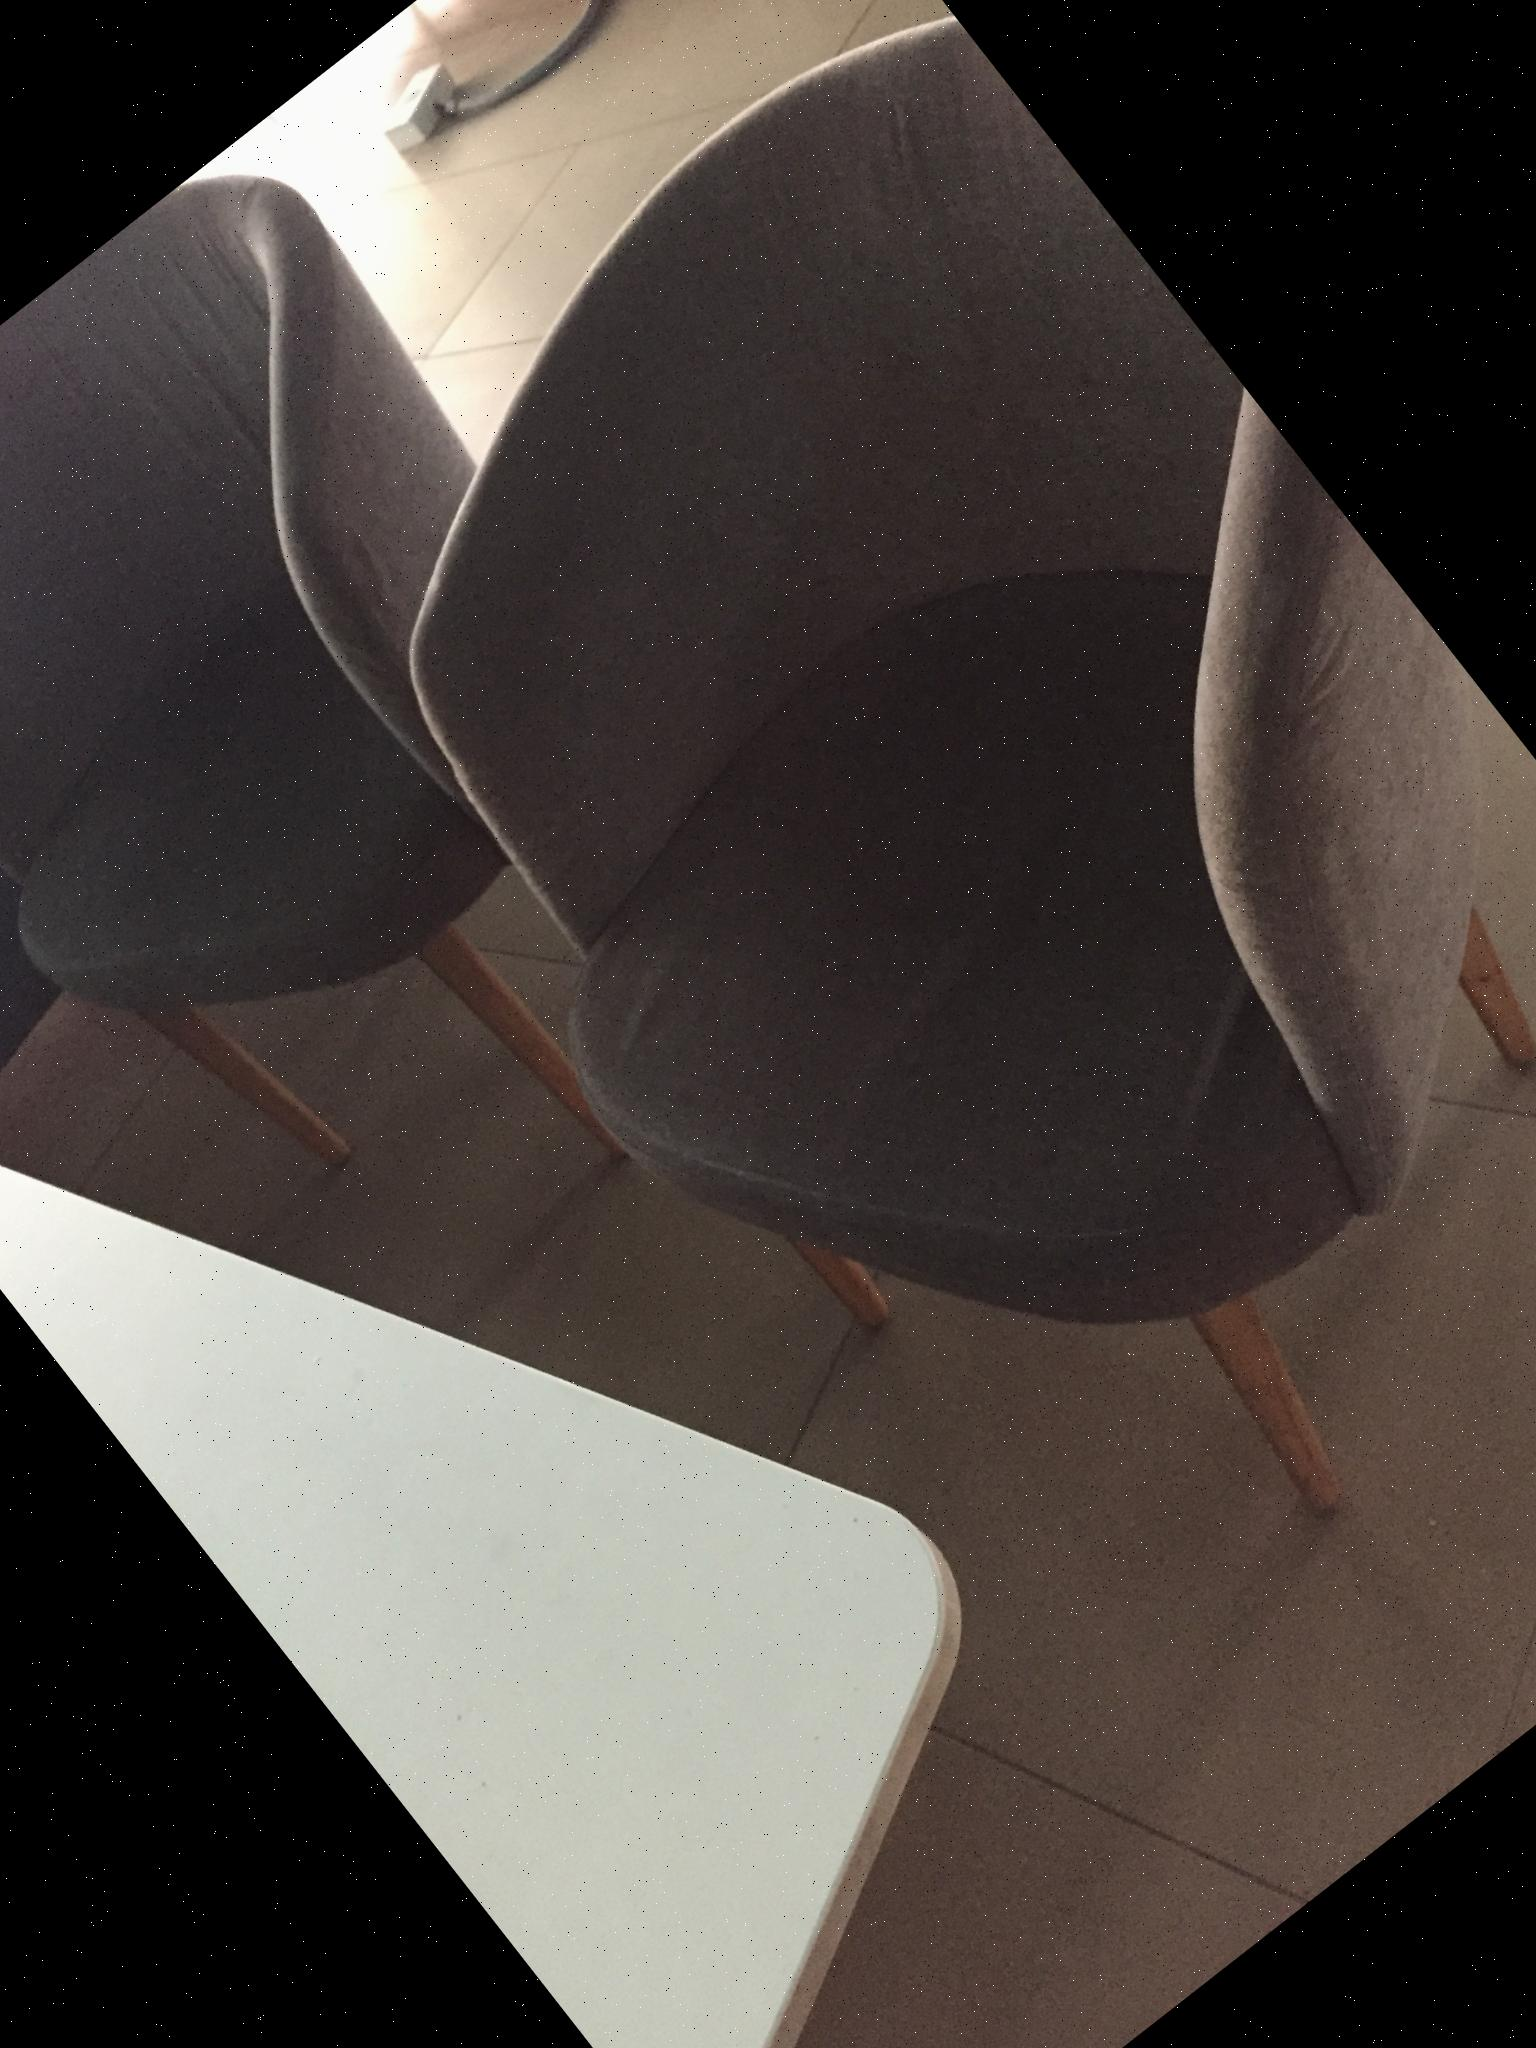chair: (160, 0, 1536, 1719), (0, 129, 892, 1372), (0, 406, 336, 1253)
